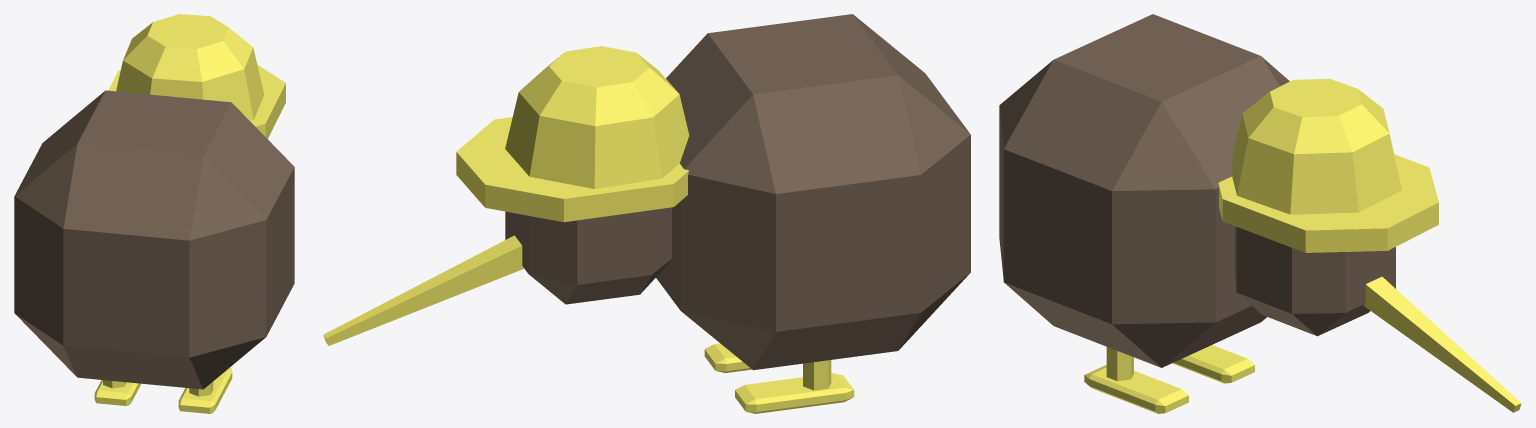
Rendered from Construction Kiwi.fbx.
3 renders of one model, left to right at view 1: azimuth 30°, elevation 25°; view 2: azimuth 150°, elevation 25°; view 3: azimuth 270°, elevation 25°, orthographic. The views are drawn at different scales.
Parts seen in each view (by area): view 1: Kiwi_body, Hard_Hat, Foot_R, Foot_L; view 2: Kiwi_body, Hard_Hat, Kiwi_Head, Kiwi_Beak, Foot_L, Foot_R, Leg_L; view 3: Kiwi_body, Hard_Hat, Kiwi_Head, Kiwi_Beak, Foot_R, Foot_L, Leg_R.
Boxes of the visible parts, left/top/right/bottom form: Kiwi_body: left=14, top=90, right=294, bottom=389; Hard_Hat: left=108, top=14, right=285, bottom=138; Foot_R: left=178, top=368, right=232, bottom=413; Foot_L: left=94, top=380, right=140, bottom=405; Kiwi_body: left=656, top=14, right=970, bottom=370; Hard_Hat: left=456, top=46, right=689, bottom=222; Kiwi_Head: left=505, top=207, right=671, bottom=304; Kiwi_Beak: left=323, top=235, right=523, bottom=345; Foot_L: left=735, top=373, right=854, bottom=413; Foot_R: left=704, top=343, right=751, bottom=373; Leg_L: left=803, top=360, right=831, bottom=390; Kiwi_body: left=999, top=14, right=1289, bottom=367; Hard_Hat: left=1218, top=78, right=1438, bottom=252; Kiwi_Head: left=1234, top=226, right=1395, bottom=336; Kiwi_Beak: left=1363, top=276, right=1521, bottom=412; Foot_R: left=1084, top=365, right=1188, bottom=413; Foot_L: left=1172, top=345, right=1254, bottom=383; Leg_R: left=1106, top=347, right=1133, bottom=381.
Size of the model in its own units: 1.36 by 1.03 by 1.46.
